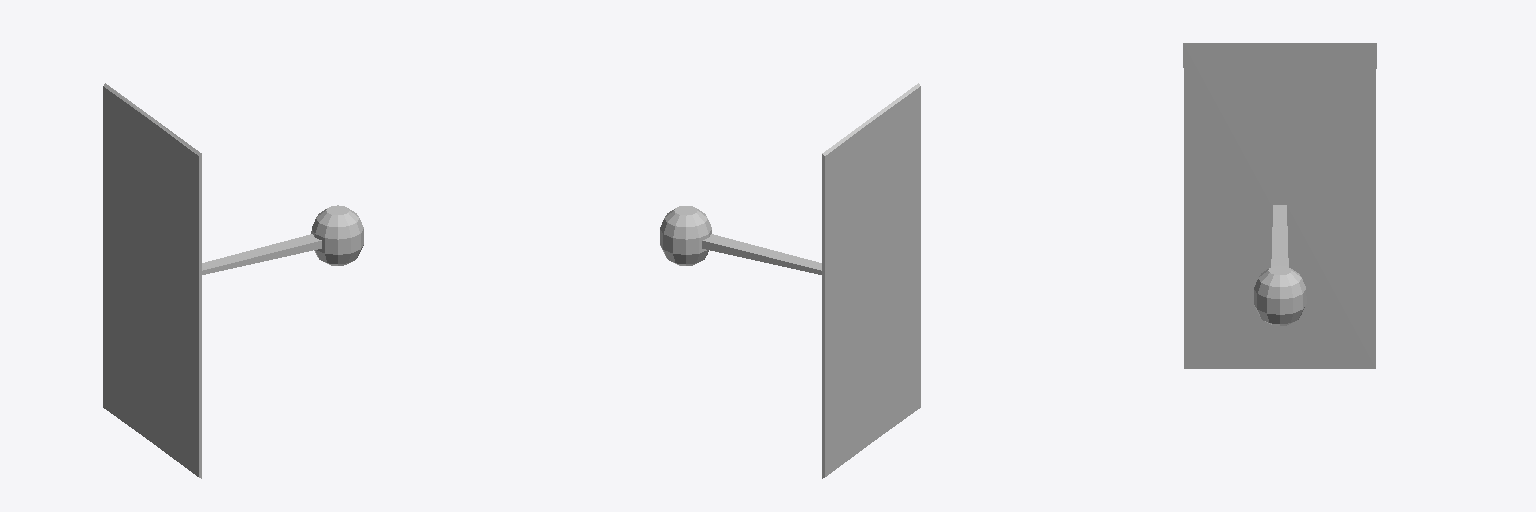
Rendered from drone3.obj.
3 renders of one model, left to right at view 1: azimuth 30°, elevation 25°; view 2: azimuth 150°, elevation 25°; view 3: azimuth 270°, elevation 25°, orthographic.
Parts seen in each view (by area): view 1: Plane.003_Plane.006; view 2: Plane.003_Plane.006; view 3: Plane.003_Plane.006.
Part boxes in pixels (x1,y1,x2,y2): Plane.003_Plane.006: (103, 83, 363, 478); Plane.003_Plane.006: (660, 83, 920, 478); Plane.003_Plane.006: (1183, 43, 1376, 368).
Bounding box in the file's own units: 8.63 × 12.79 × 6.88.